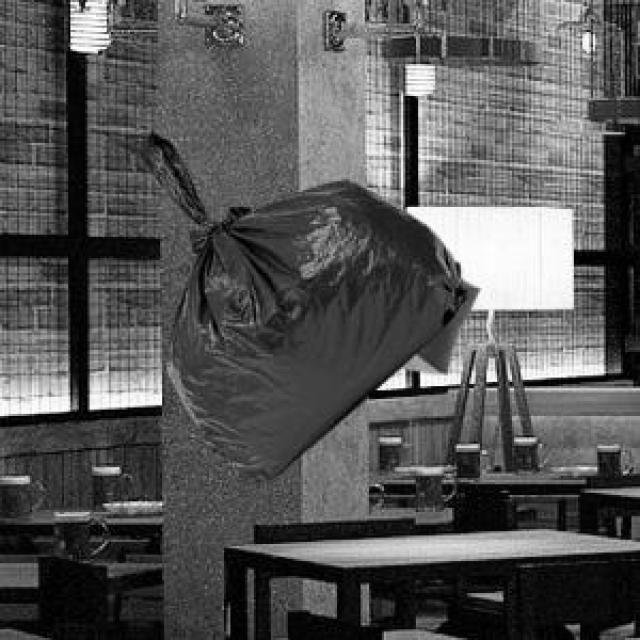miscellaneous trash: (137, 128, 463, 478)
paper: (397, 275, 476, 369)
